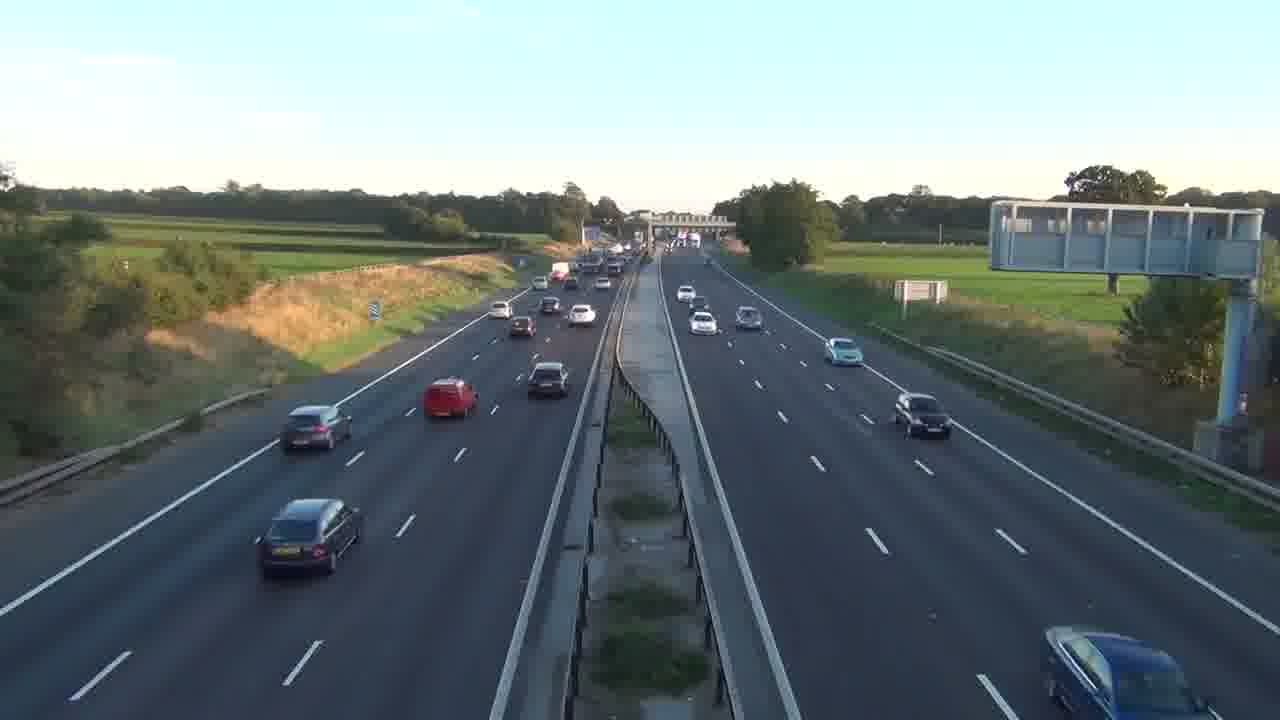car: (254, 496, 364, 578), (279, 404, 349, 452), (894, 391, 951, 439), (422, 376, 478, 420), (527, 361, 570, 398), (825, 337, 864, 366), (735, 305, 763, 331), (567, 304, 597, 326)
truck: (1040, 623, 1223, 719)
